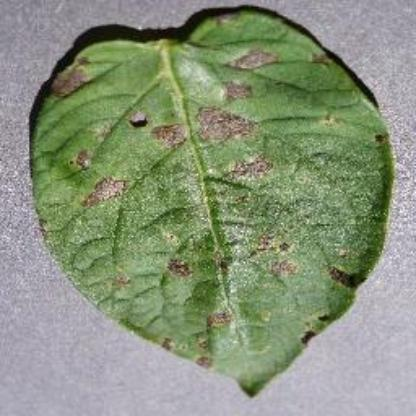Early-Blight: (29, 9, 397, 368)
